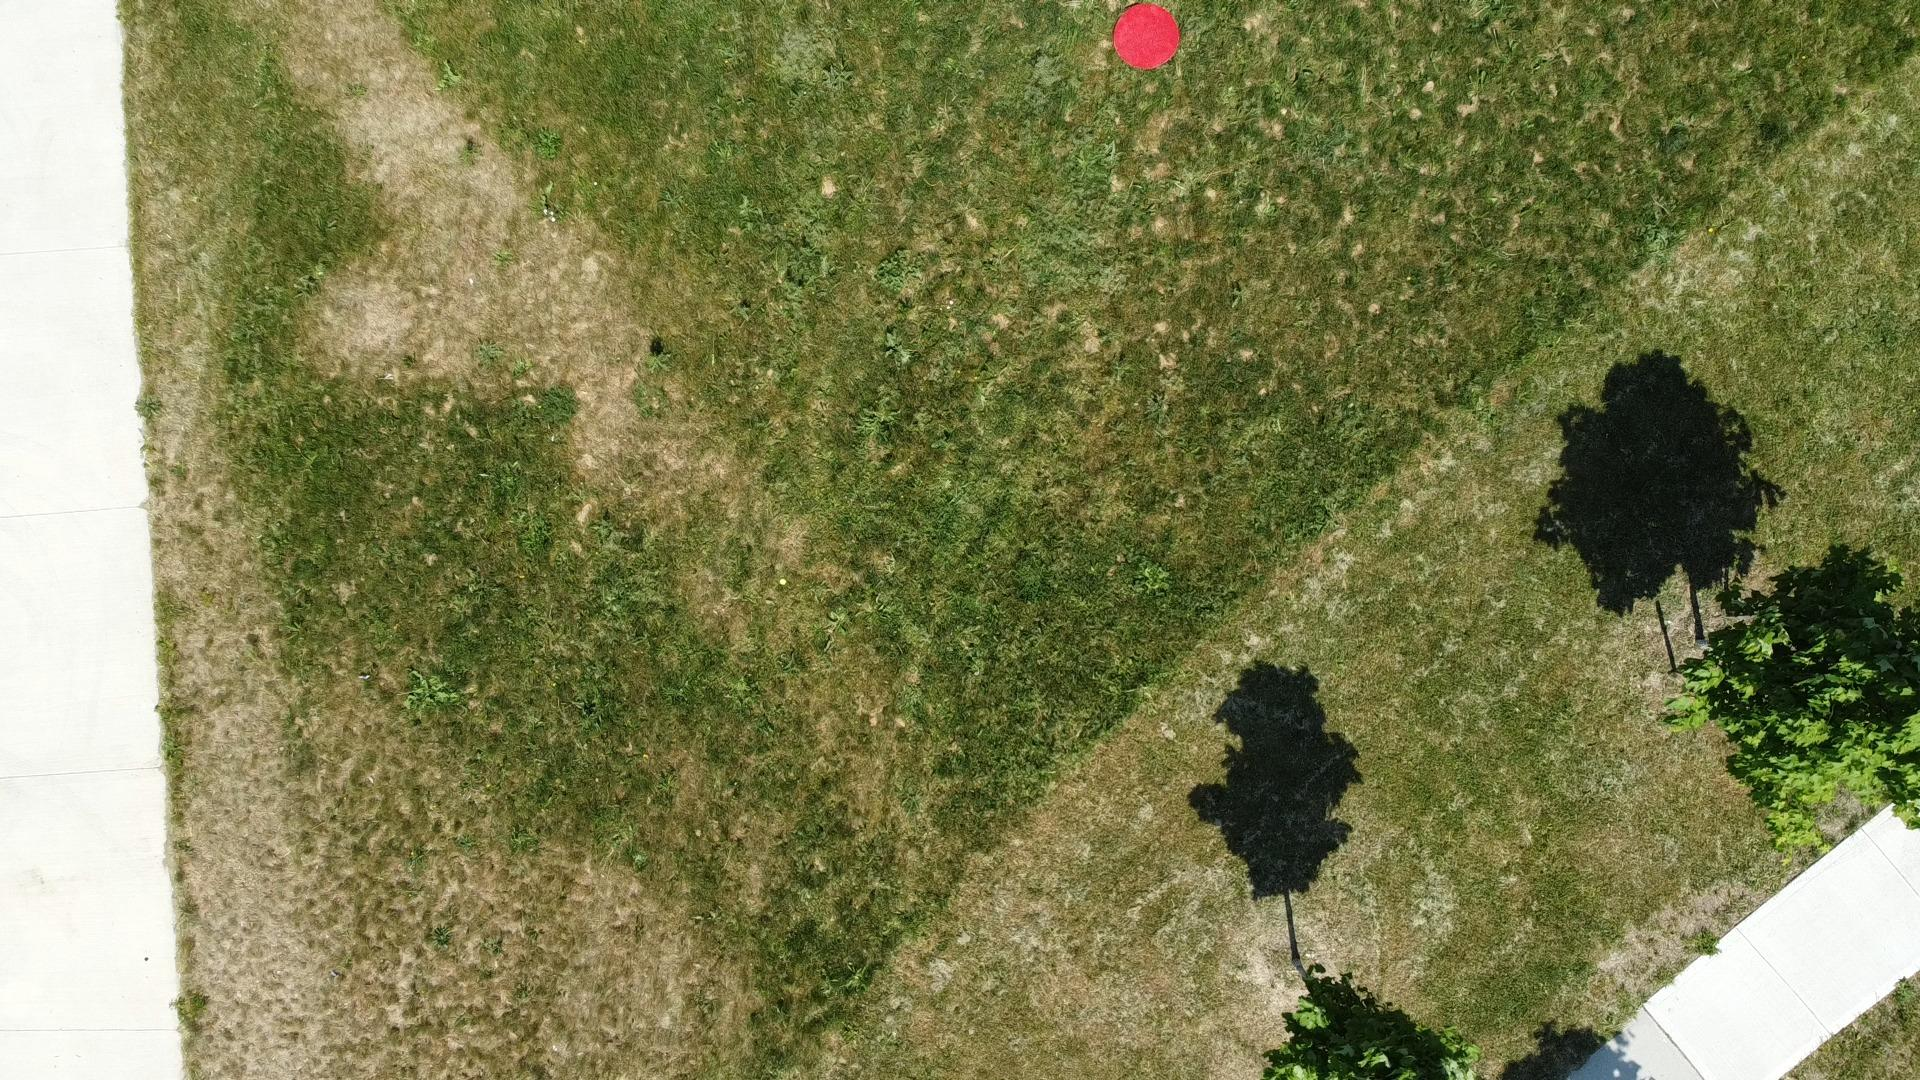Red: (1112, 3, 1182, 73)
